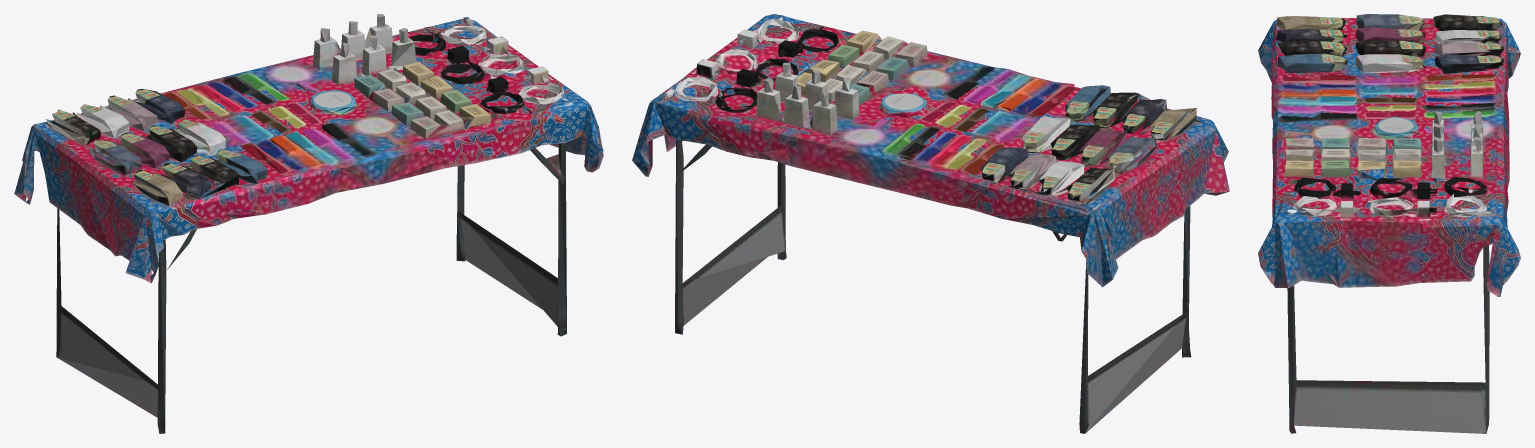
Rendered from tablecloth.glb.
3 renders of one model, left to right at view 1: azimuth 30°, elevation 25°; view 2: azimuth 150°, elevation 25°; view 3: azimuth 270°, elevation 25°, orthographic. The views are drawn at different scales.
Bounding box in the file's own units: 1.9 × 1.02 × 0.9528.
Materials: 1 (1 with a texture image).
